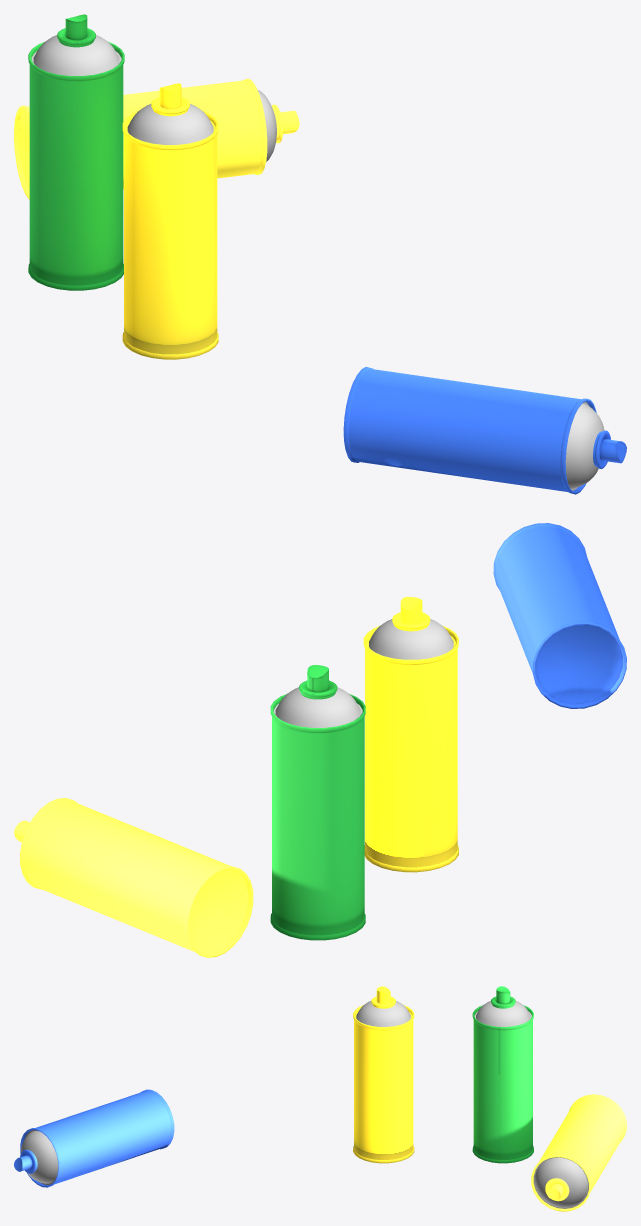
Rendered from spray.glb.
3 renders of one model, top to bottom at view 1: azimuth 30°, elevation 25°; view 2: azimuth 150°, elevation 25°; view 3: azimuth 270°, elevation 25°, orthographic. The views are drawn at different scales.
Visible parts, largest first — view 1: OilCan04.007_M_Can03_0, OilCan04.007_M_Can03_0.003, OilCan04.007_M_Can03_0.001, OilCan04.007_M_Can03_0.002; view 2: OilCan04.007_M_Can03_0.001, OilCan04.007_M_Can03_0.003, OilCan04.007_M_Can03_0.002, OilCan04.007_M_Can03_0; view 3: OilCan04.007_M_Can03_0.003, OilCan04.007_M_Can03_0.001, OilCan04.007_M_Can03_0, OilCan04.007_M_Can03_0.002.
Part boxes in pixels (left/top/right/bottom): OilCan04.007_M_Can03_0: left=343, top=367, right=626, bottom=494; OilCan04.007_M_Can03_0.003: left=28, top=14, right=124, bottom=290; OilCan04.007_M_Can03_0.001: left=122, top=83, right=218, bottom=359; OilCan04.007_M_Can03_0.002: left=14, top=78, right=299, bottom=199; OilCan04.007_M_Can03_0.001: left=363, top=596, right=458, bottom=872; OilCan04.007_M_Can03_0.003: left=270, top=665, right=365, bottom=940; OilCan04.007_M_Can03_0.002: left=14, top=798, right=253, bottom=957; OilCan04.007_M_Can03_0: left=493, top=523, right=626, bottom=708; OilCan04.007_M_Can03_0.003: left=472, top=986, right=533, bottom=1163; OilCan04.007_M_Can03_0.001: left=353, top=986, right=414, bottom=1163; OilCan04.007_M_Can03_0: left=14, top=1089, right=174, bottom=1187; OilCan04.007_M_Can03_0.002: left=531, top=1094, right=626, bottom=1211.
Size of the model in its own units: 3.07 by 2.45 by 8.43.
